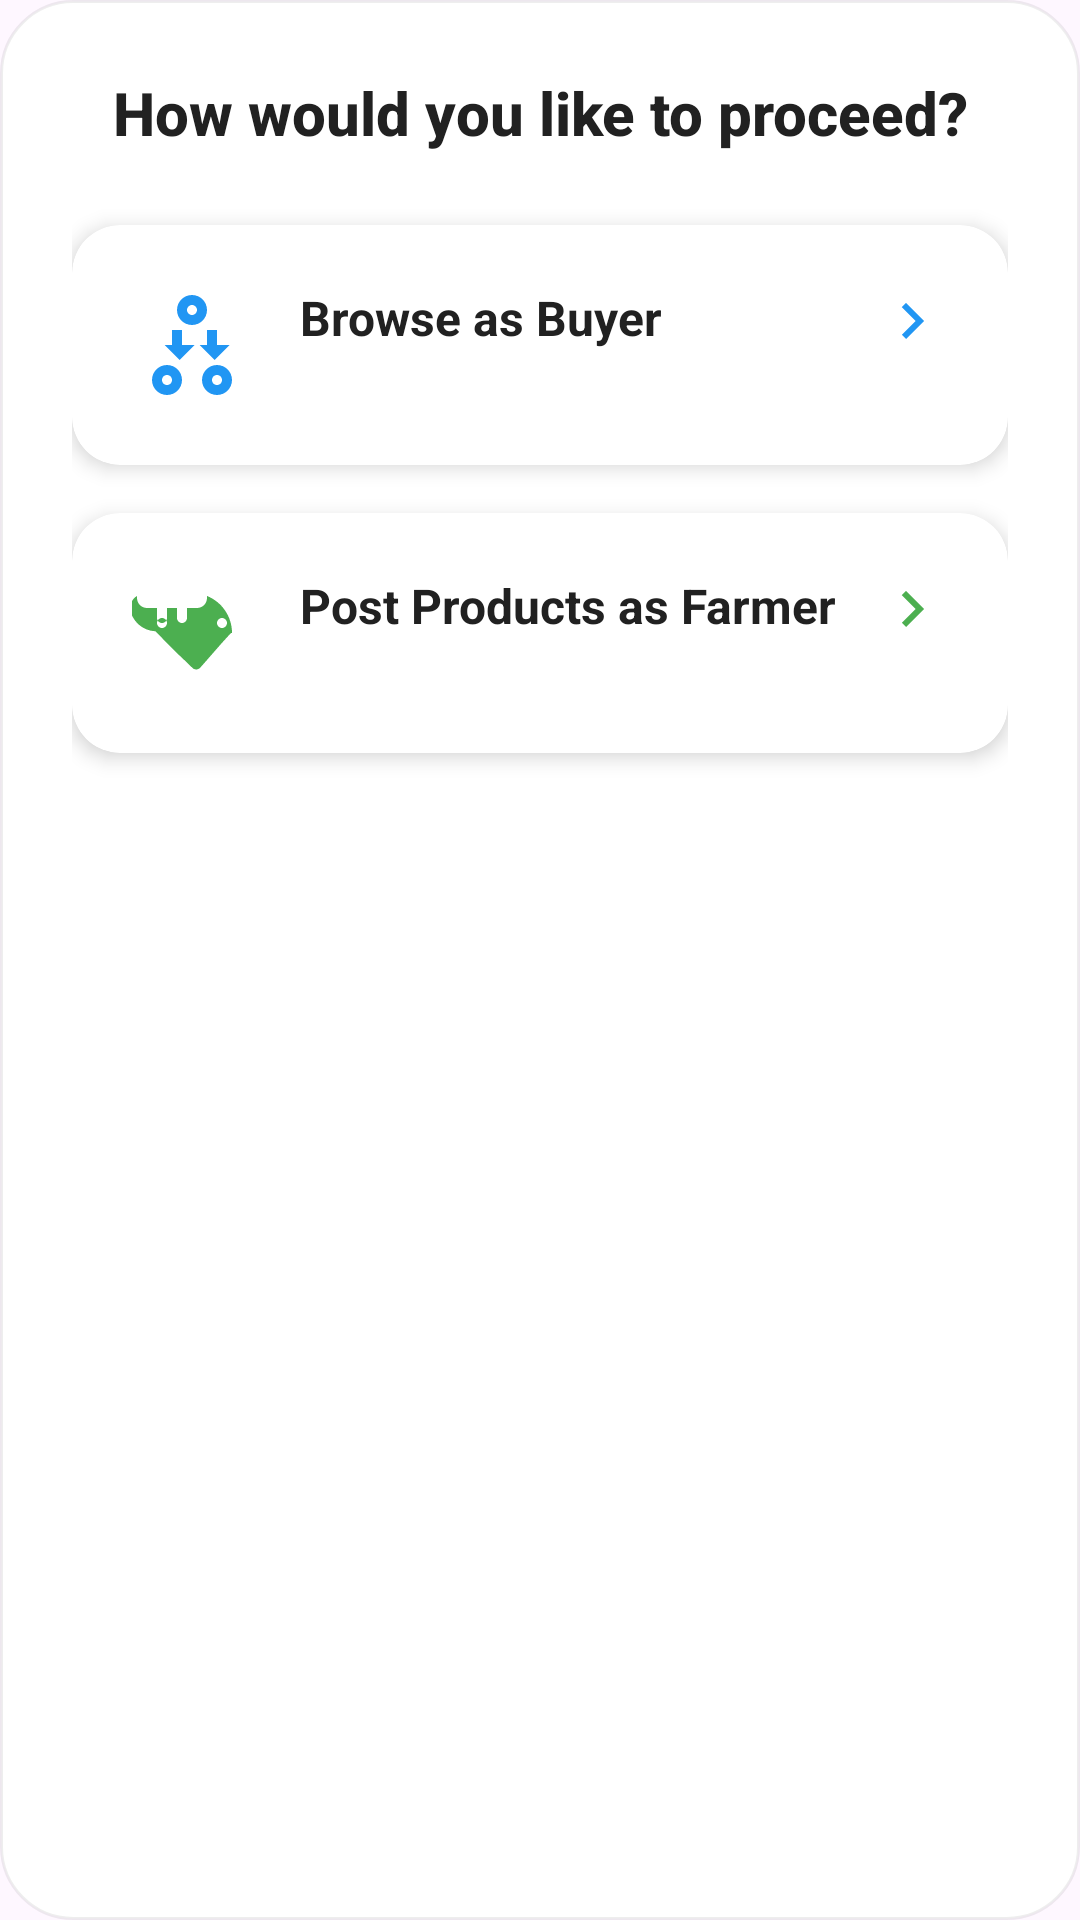

Screen size 1080*1920. Icon name, then its box in pixels as (x1, y1, x2, y2):
arrow forward: (902, 303, 924, 339), (902, 591, 924, 627)
